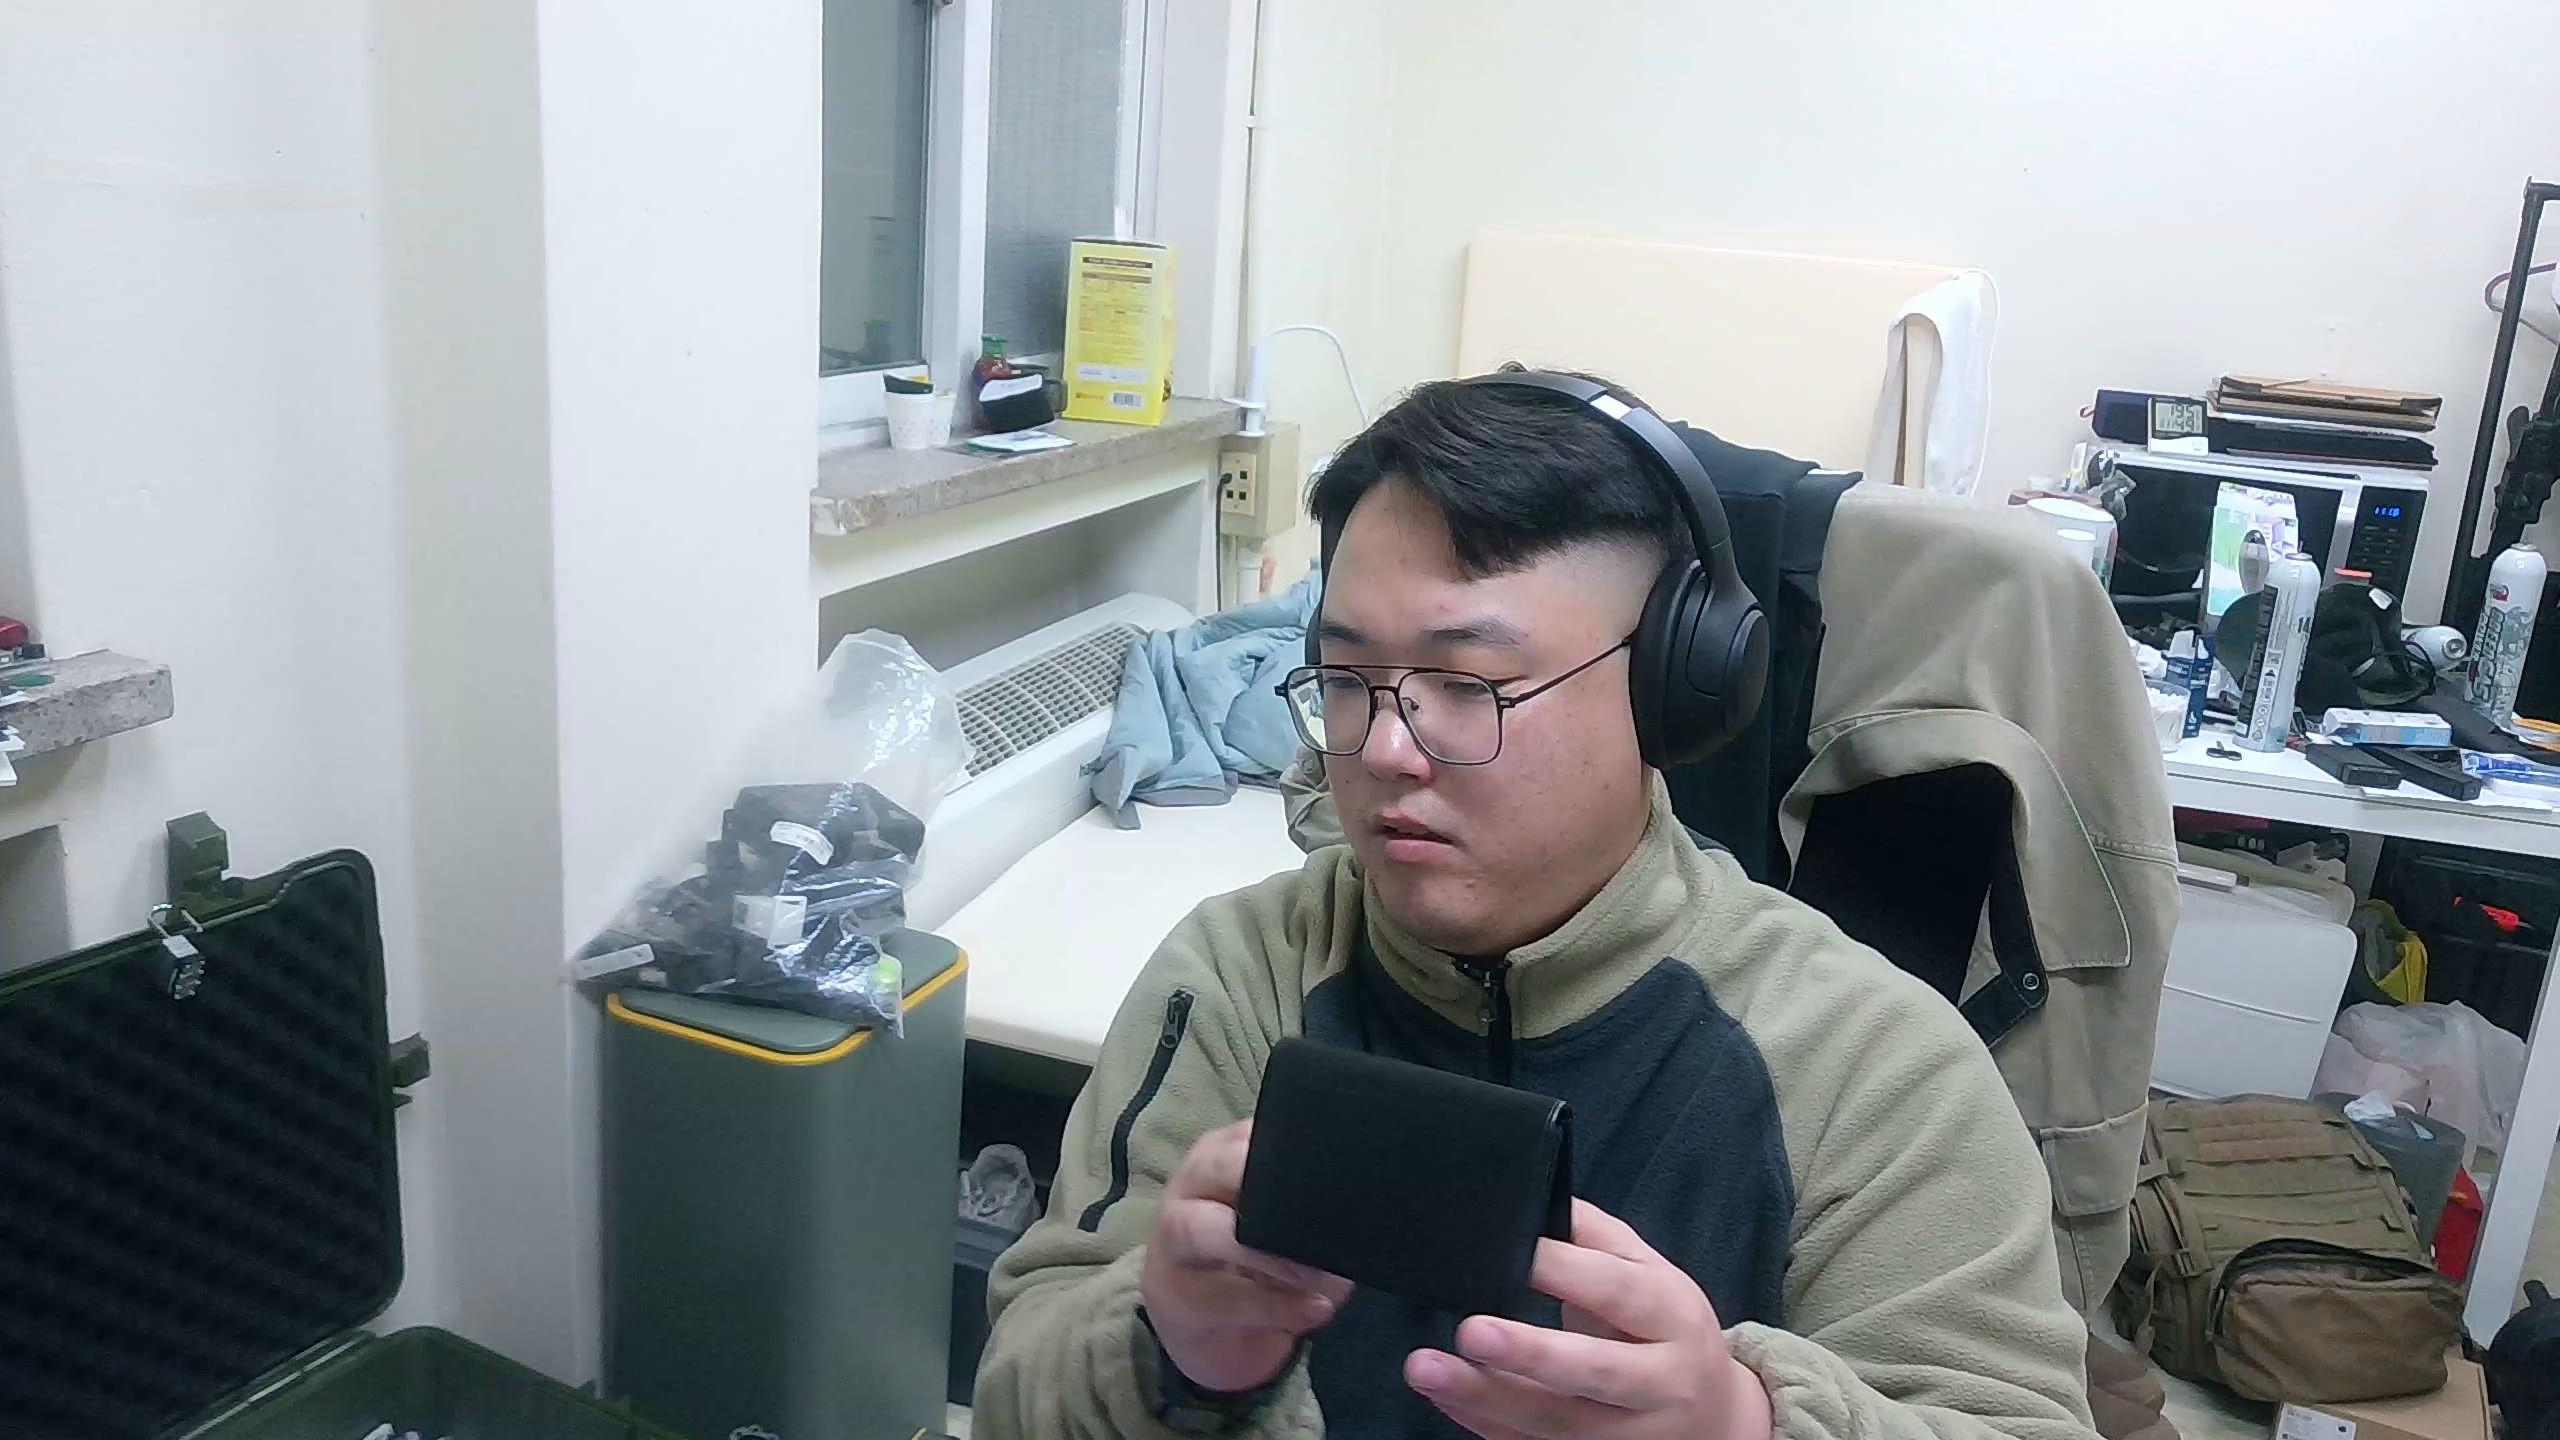Wallet: (1233, 1034, 1581, 1327)
